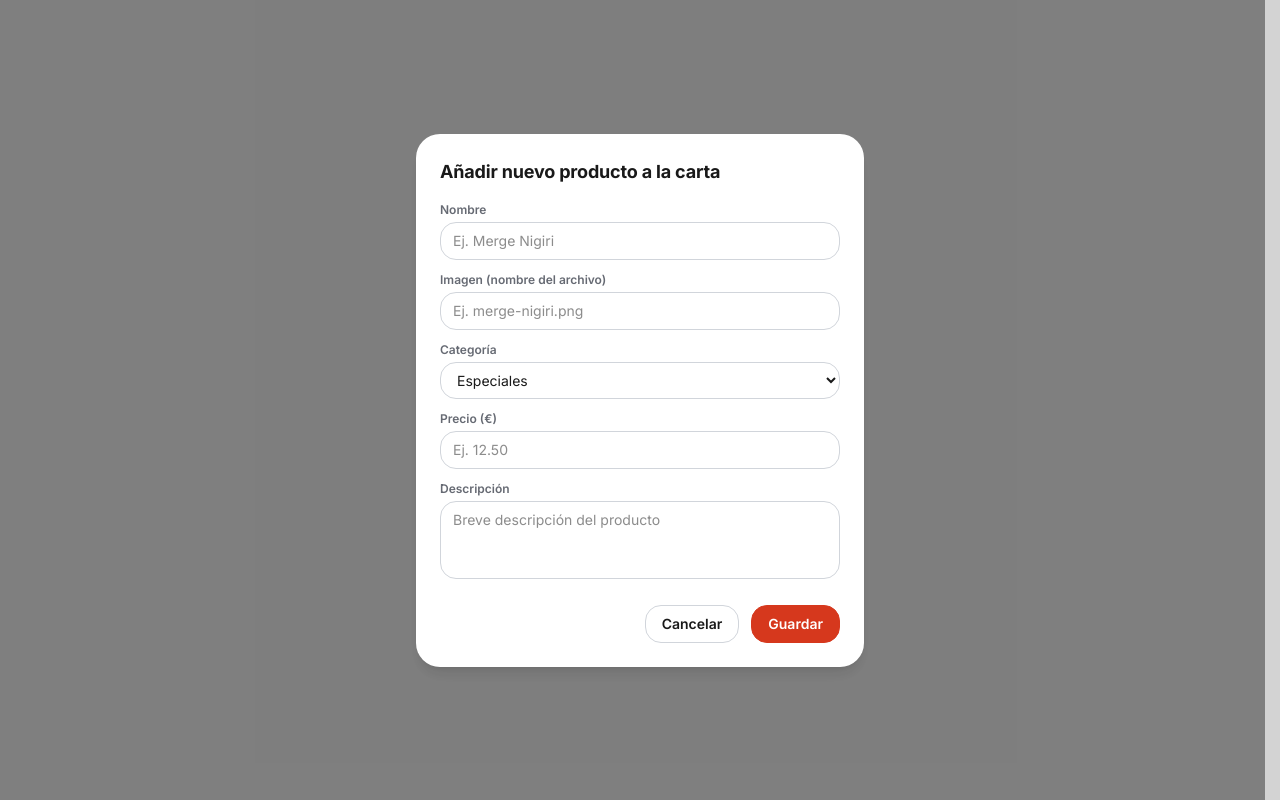
Test: ProductFormModal › create mode › requires the image in create mode
Type "  Merge Nigiri  " into the field labelled "Nombre" at (640, 240), box [440, 222, 840, 260]
Type "merge-nigiri.png" into the field labelled "Imagen (nombre del archivo)" at (640, 310), box [440, 292, 840, 330]
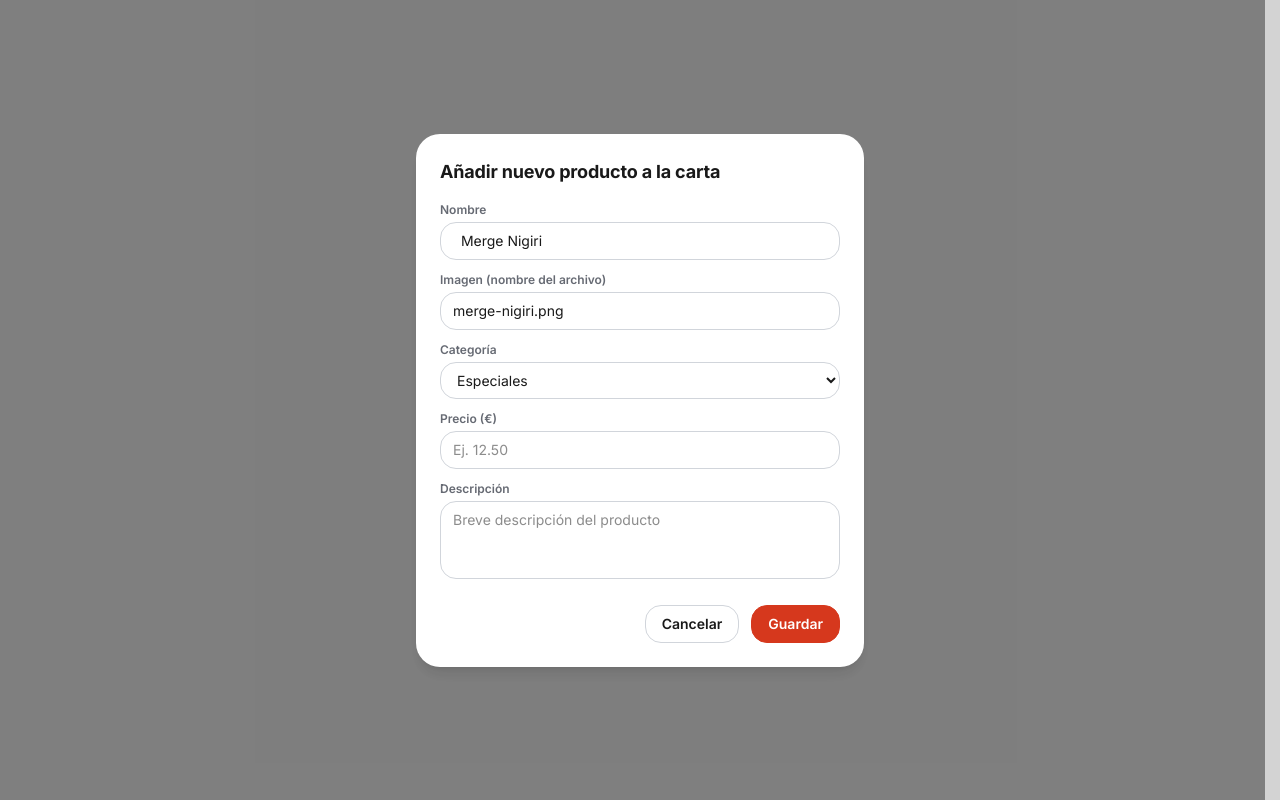
Select "Nigiri" in the dropdown labelled "Categoría" at (640, 380), box [440, 362, 840, 398]
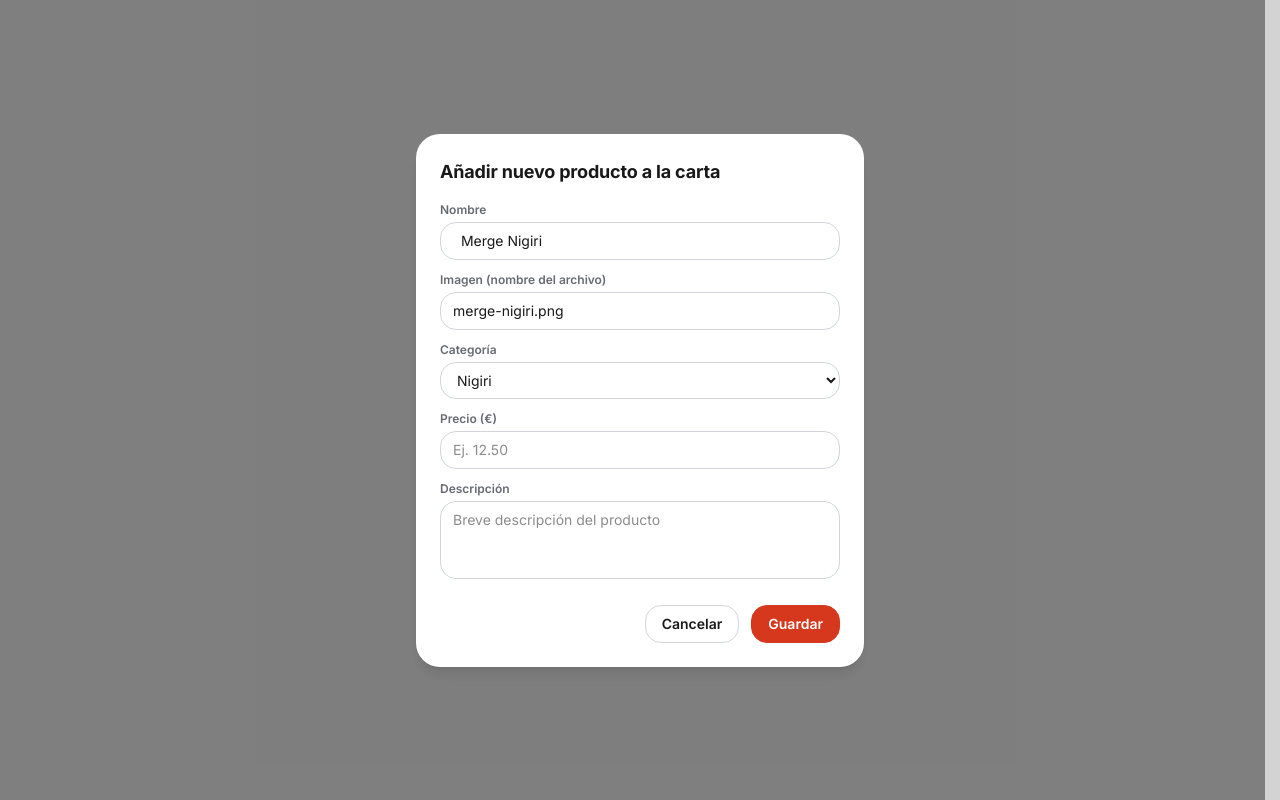
Type "6.50" into the number field labelled "Precio (€)" at (640, 450), box [440, 430, 840, 468]
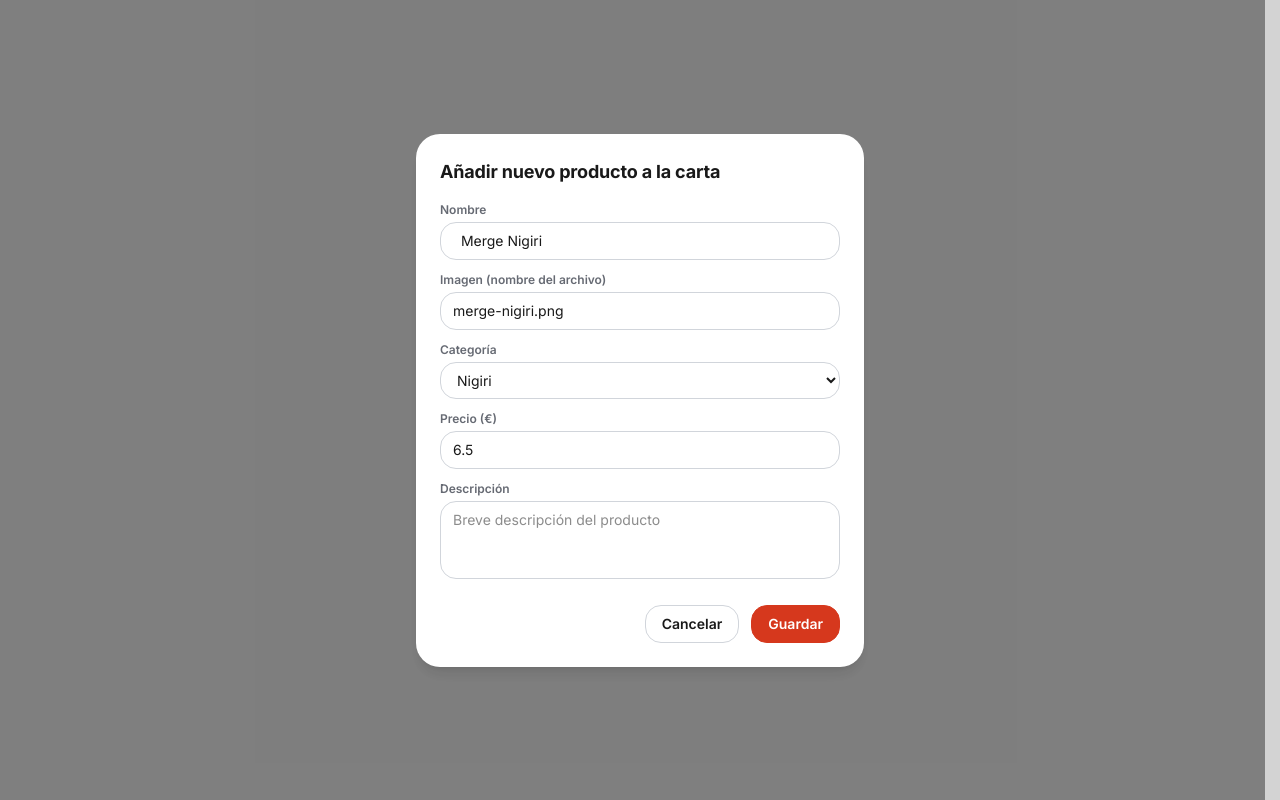
Type "Nigiri de salmón" into the text box labelled "Descripción" at (640, 540), box [440, 500, 840, 578]
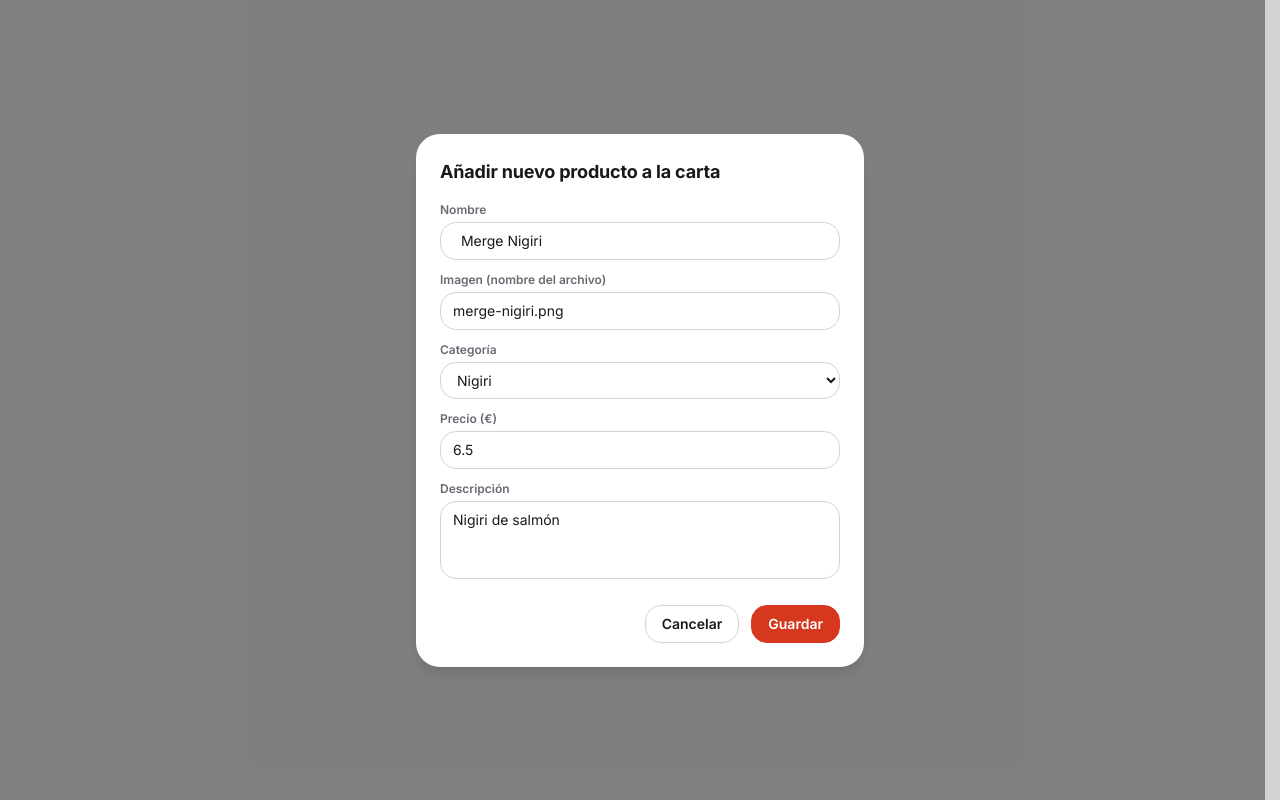
Clear the field labelled "Imagen (nombre del archivo)" at (640, 310), box [440, 292, 840, 330]
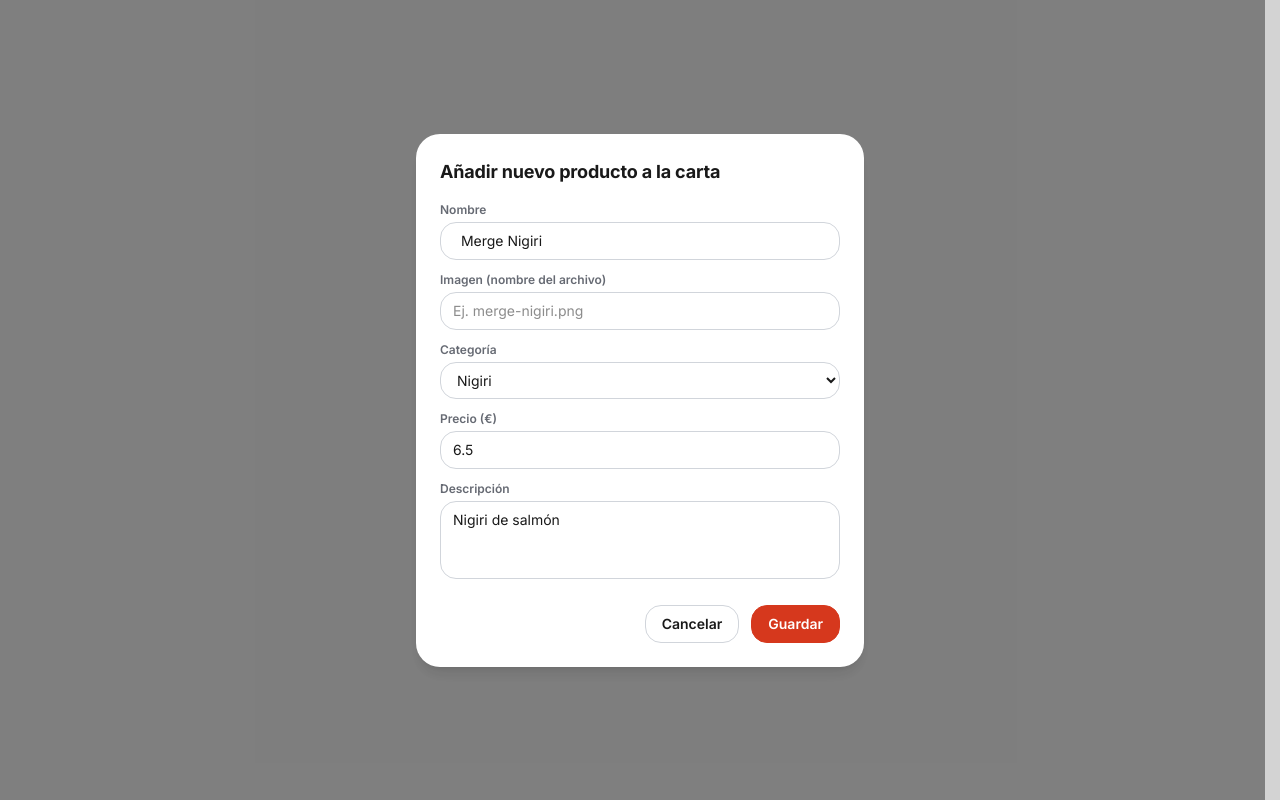
Submit the form, box [440, 202, 840, 642]
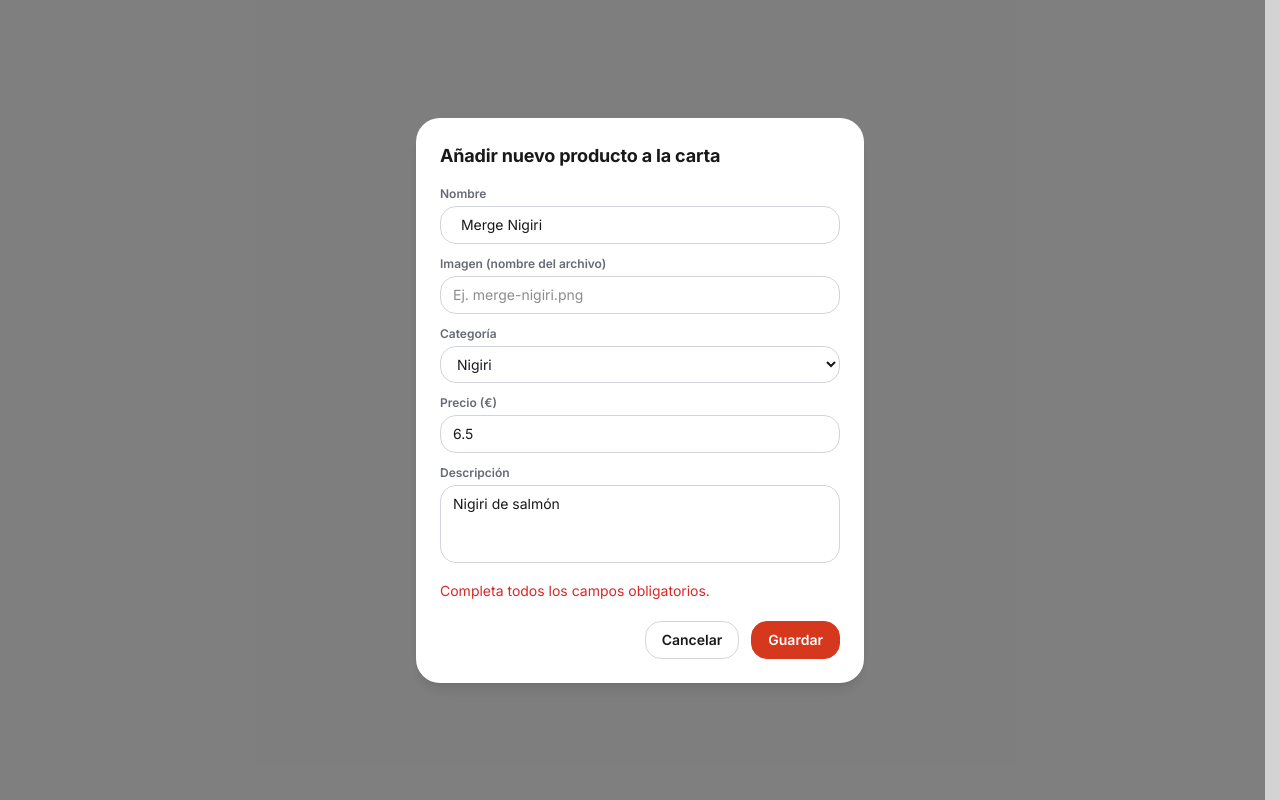
Result: the text "Completa todos los campos obligatorios." is shown at [440, 582, 710, 598]
